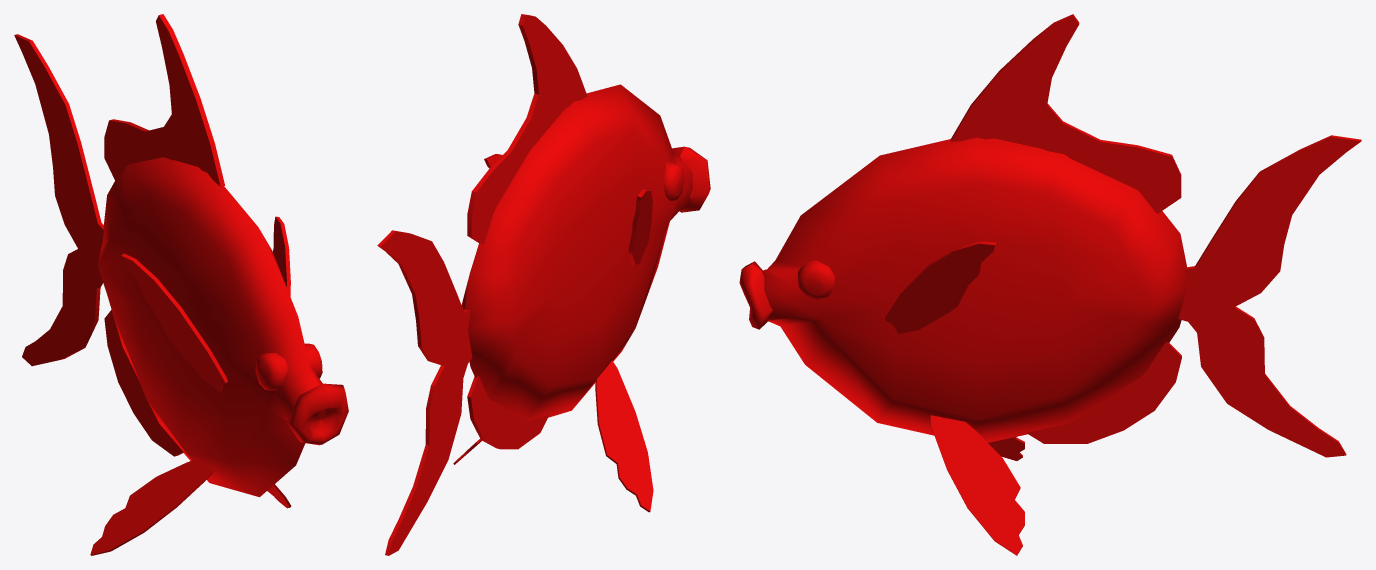
The picture shows the model from 3 angles, left to right: view 1: azimuth 30°, elevation 25°; view 2: azimuth 150°, elevation 25°; view 3: azimuth 270°, elevation 25°; orthographic projection.
Visible parts, largest first — view 1: Fish_OpahMoonfish; view 2: Fish_OpahMoonfish; view 3: Fish_OpahMoonfish.
Boxes of the visible parts, box(x1,y1,x2,y2) form: Fish_OpahMoonfish: box(14, 14, 348, 555); Fish_OpahMoonfish: box(377, 14, 710, 555); Fish_OpahMoonfish: box(739, 14, 1361, 555).
Size of the model in its own units: 0.3053 by 0.7318 by 0.8359.
